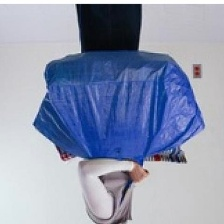plastic_bag: (26, 46, 209, 168)
